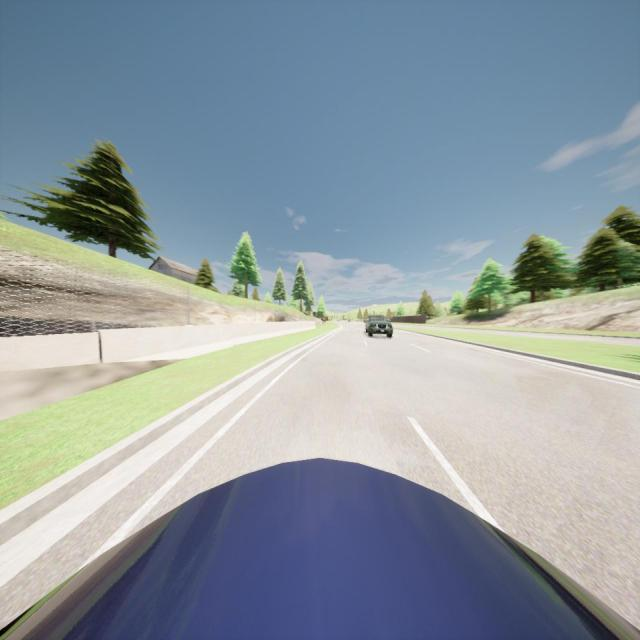Vehicle: (1, 457, 640, 640), (366, 315, 393, 338)
